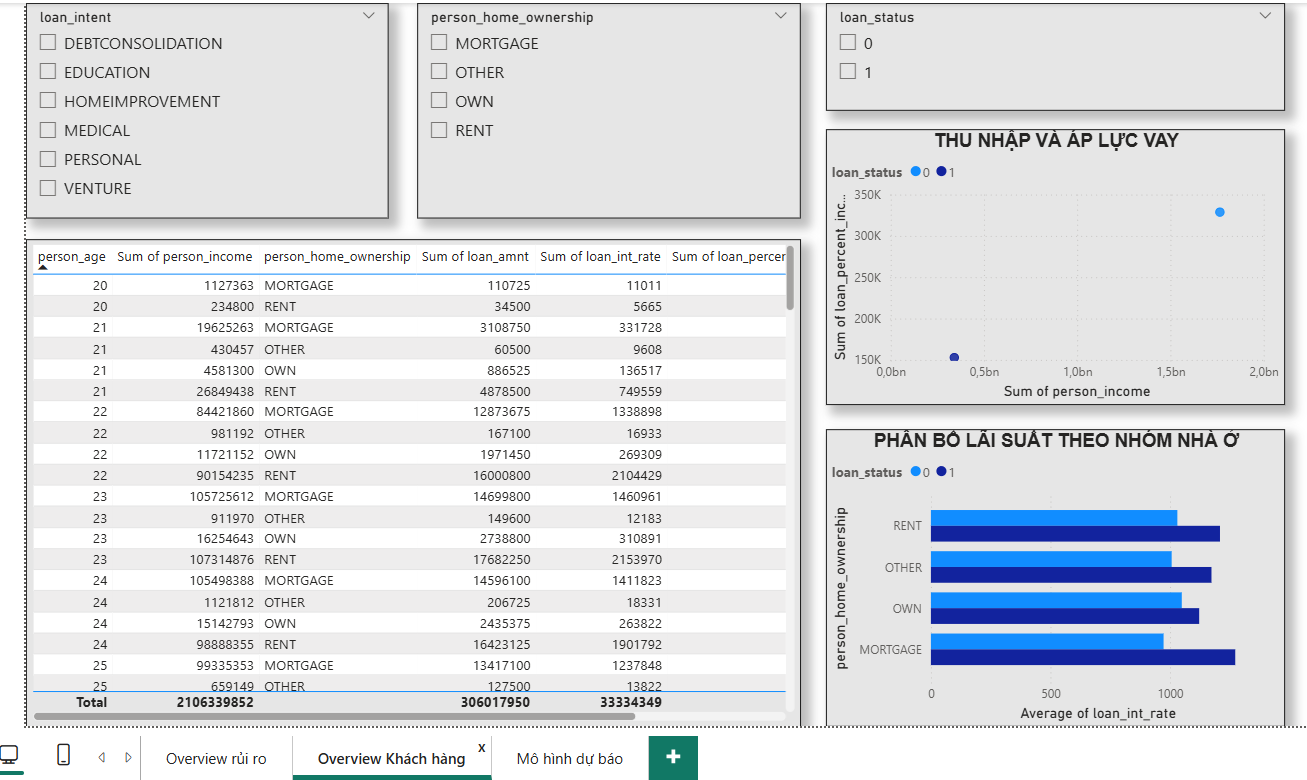

This screenshot's page, from the dashboard's own definition file:
{"tool":"powerbi","page":{"name":"Overview Khách hàng","canvas":[1280,720],"ordinal":1},"visuals":[{"type":"scatterChart","title":"THU NHẬP VÀ ÁP LỰC VAY ","fields":{"X":["Sum(credit_risk_dataset_cleaned.person_income)"],"Y":["Sum(credit_risk_dataset_cleaned.loan_percent_income)"],"Series":["credit_risk_dataset_cleaned.loan_status"]},"box":[795.9,126.2,456.9,274.4],"z":0},{"type":"clusteredBarChart","title":"PHÂN BỔ LÃI SUẤT THEO NHÓM NHÀ Ở ","fields":{"Category":["credit_risk_dataset_cleaned.person_home_ownership"],"Y":["Avg(credit_risk_dataset_cleaned.loan_int_rate)"],"Series":["credit_risk_dataset_cleaned.loan_status"]},"box":[795.9,424,456.9,296.4],"z":1000},{"type":"tableEx","fields":{"Values":["credit_risk_dataset_cleaned.person_age","Sum(credit_risk_dataset_cleaned.person_income)","credit_risk_dataset_cleaned.person_home_ownership","Sum(credit_risk_dataset_cleaned.loan_amnt)","Sum(credit_risk_dataset_cleaned.loan_int_rate)","Sum(credit_risk_dataset_cleaned.loan_percent_income)","Sum(credit_risk_dataset_cleaned.loan_status)"]},"box":[0,234.6,771.2,485.8],"z":2000},{"type":"slicer","fields":{"Values":["credit_risk_dataset_cleaned.loan_intent"]},"box":[0,0,360.9,214.1],"z":3000},{"type":"slicer","fields":{"Values":["credit_risk_dataset_cleaned.person_home_ownership"]},"box":[389.7,0,381.5,214.1],"z":4000},{"type":"slicer","fields":{"Values":["credit_risk_dataset_cleaned.loan_status"]},"box":[795.9,0,456.9,107],"z":5000}]}

Visuals, with their boxes in screenshot pixels (x1, y1, x2, y2):
"THU NHẬP VÀ ÁP LỰC VAY " scatterChart: <bbox>822, 127, 1282, 403</bbox>
"PHÂN BỔ LÃI SUẤT THEO NHÓM NHÀ Ở " clusteredBarChart: <bbox>822, 427, 1282, 725</bbox>
tableEx - credit_risk_dataset_cleaned.person_age x Sum(credit_risk_dataset_cleaned.person_income): <bbox>20, 236, 797, 725</bbox>
slicer - credit_risk_dataset_cleaned.loan_intent: <bbox>20, 0, 384, 216</bbox>
slicer - credit_risk_dataset_cleaned.person_home_ownership: <bbox>413, 0, 797, 216</bbox>
slicer - credit_risk_dataset_cleaned.loan_status: <bbox>822, 0, 1282, 108</bbox>
